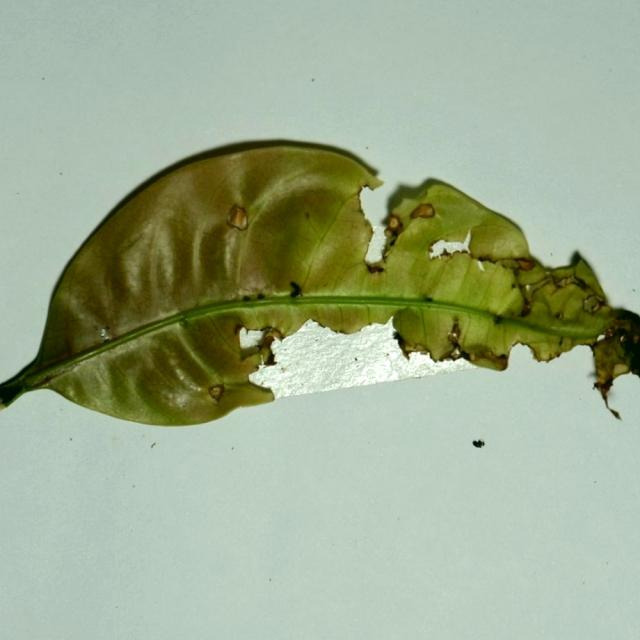Anthracnose: (295, 181, 371, 294), (131, 206, 194, 302), (233, 209, 295, 291), (192, 311, 257, 373), (390, 208, 445, 260), (456, 316, 513, 364), (464, 219, 526, 260), (476, 259, 517, 311), (435, 250, 479, 296), (224, 204, 251, 278), (14, 347, 79, 375), (571, 256, 605, 300), (113, 222, 152, 258), (597, 384, 621, 421), (425, 339, 459, 363), (526, 275, 556, 300), (0, 382, 23, 408), (544, 324, 592, 334), (418, 306, 428, 350), (361, 172, 383, 192), (361, 365, 383, 380), (612, 362, 629, 376), (560, 337, 572, 352), (101, 327, 112, 342), (384, 351, 394, 364), (589, 371, 601, 381), (619, 334, 628, 344), (557, 312, 564, 320), (304, 211, 310, 220), (425, 296, 434, 302), (636, 334, 640, 344)
Mango: (0, 141, 639, 429)
